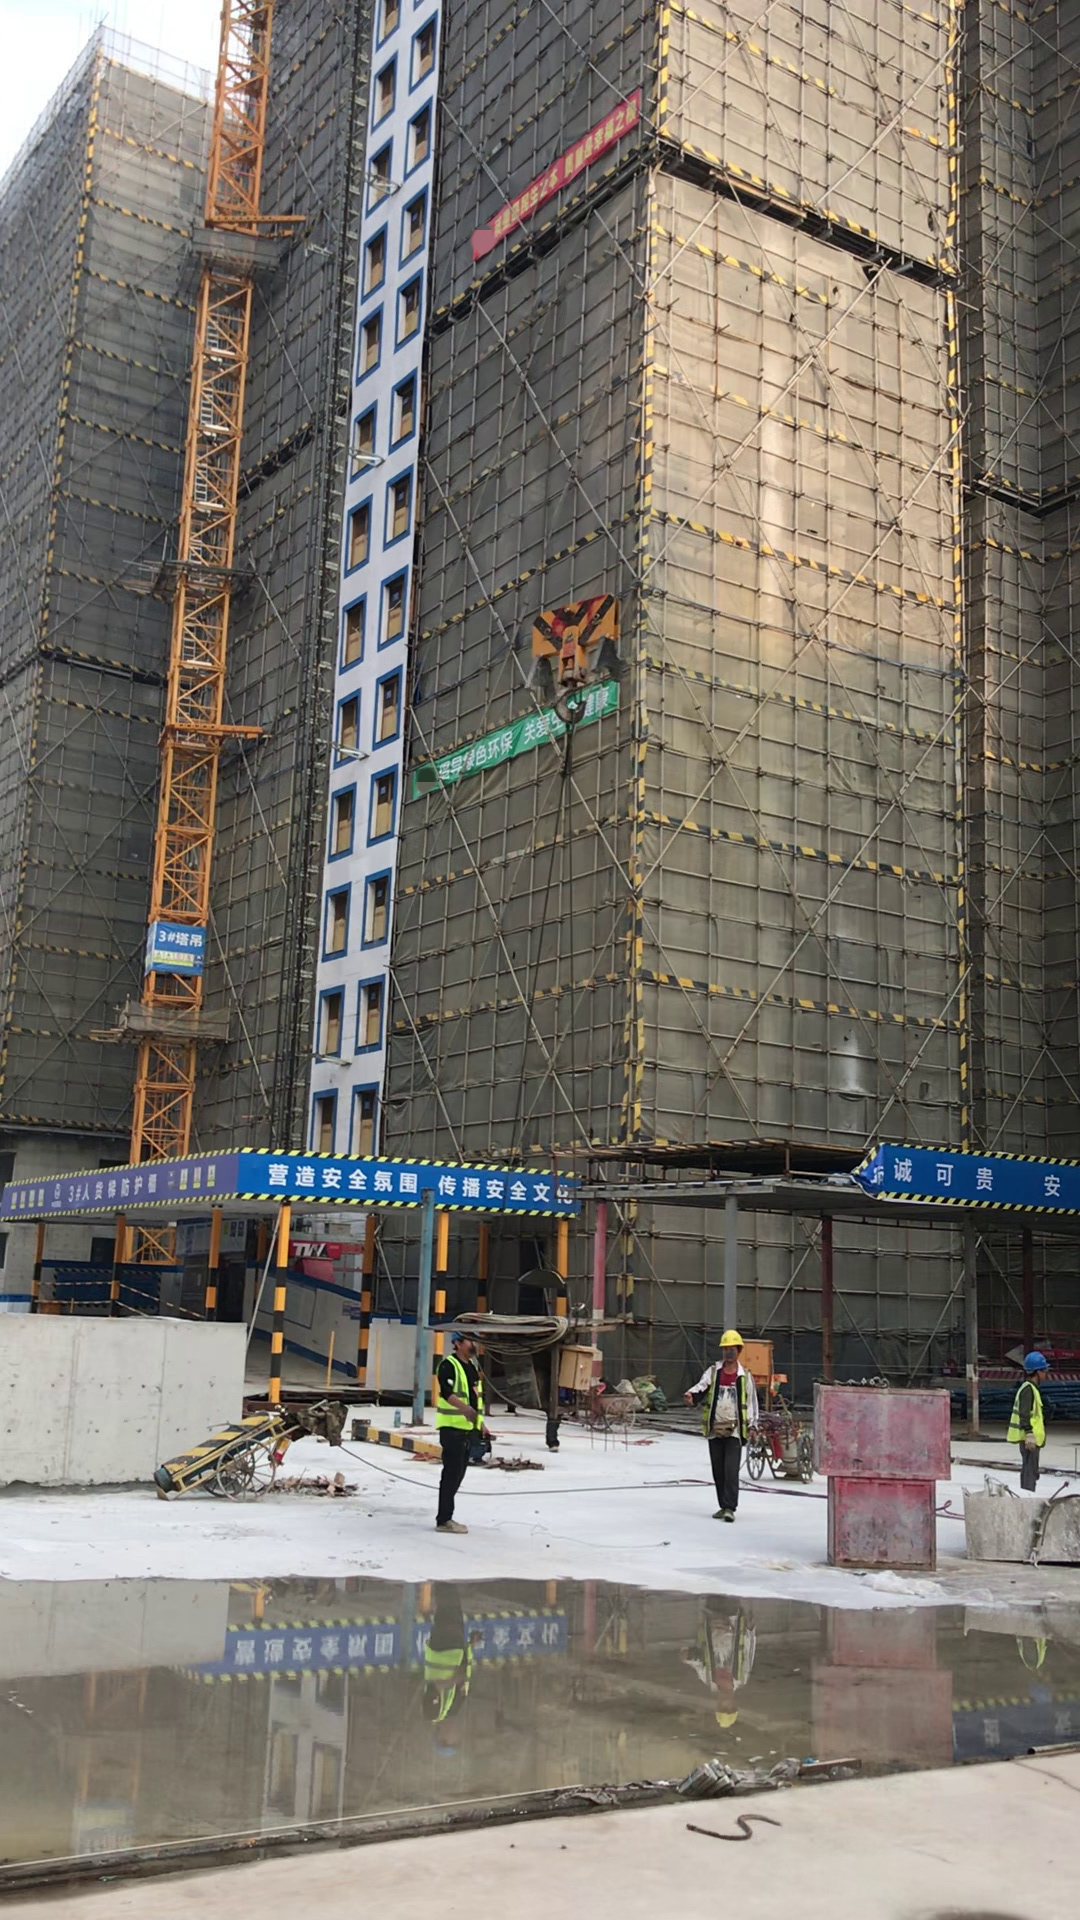ebox: (561, 1343, 598, 1391), (749, 1330, 779, 1386)
helmet: (1020, 1352, 1053, 1370), (716, 1331, 746, 1347), (449, 1331, 481, 1343)
hook: (526, 590, 641, 720)
hopper: (965, 1479, 1080, 1573)
person: (684, 1320, 769, 1532), (416, 1331, 488, 1536), (995, 1342, 1061, 1500)
slogan: (478, 82, 641, 255), (249, 1145, 578, 1220), (416, 699, 634, 795), (5, 1142, 241, 1228), (882, 1145, 1076, 1217)
vest: (440, 1355, 489, 1431), (1005, 1380, 1051, 1448), (709, 1367, 748, 1439)
